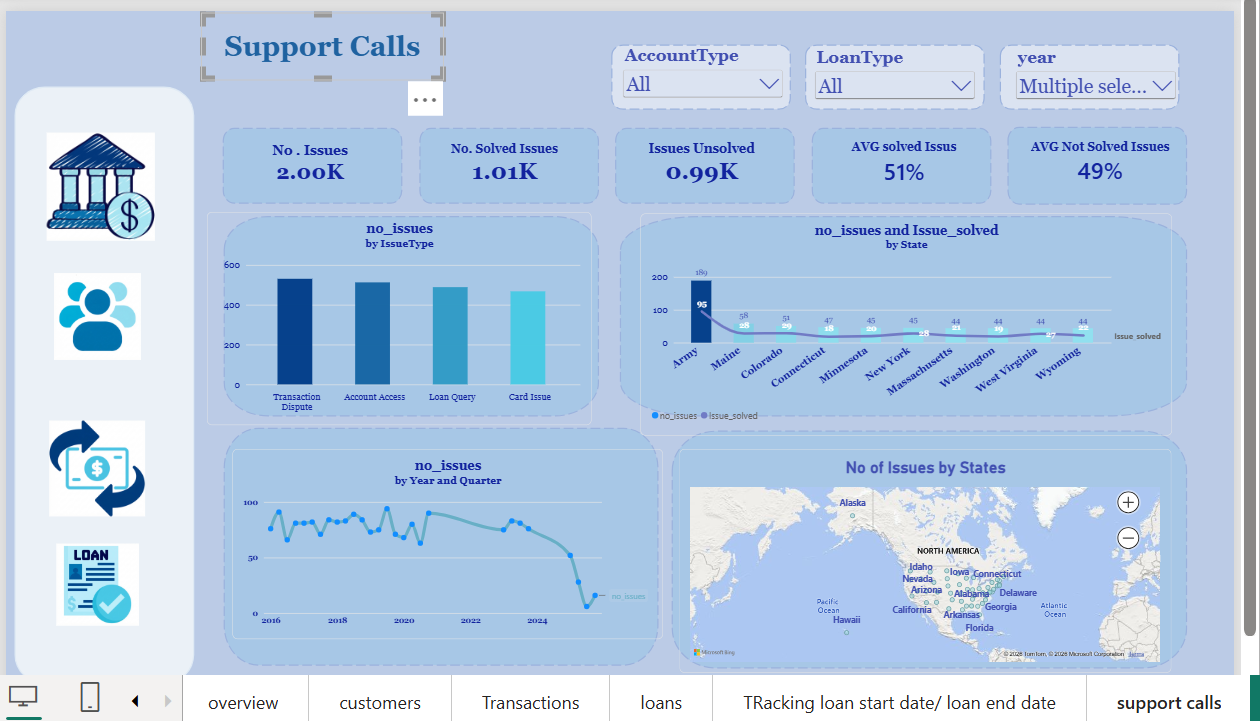

The dashboard page shown, as its layout file describes it:
{"tool":"powerbi","page":{"name":"support calls","canvas":[1920,1080],"ordinal":5},"visuals":[{"type":"textbox","box":[100,100,300,300],"z":0},{"type":"textbox","box":[100.2,145.5,207.6,255.3],"z":1000},{"type":"cardVisual","fields":{"Data":["customer_service.no_issues"]},"box":[355.5,190.9,238.6,97.8],"z":2000},{"type":"cardVisual","fields":{"Data":["customer_service.Issue_solved"]},"box":[644.2,190.9,269.6,97.8],"z":3000},{"type":"cardVisual","fields":{"Data":["customer_service.Issue_not_solved"]},"box":[968.7,190.9,238.6,97.8],"z":4000},{"type":"cardVisual","fields":{"Data":["customer_service.AVG_solved_issues"]},"box":[1286,190.9,238.6,97.8],"z":5000},{"type":"cardVisual","fields":{"Data":["customer_service.AVG_Notsolved_issues"]},"box":[1582.8,191.2,256.5,96.8],"z":6000},{"type":"lineClusteredColumnComboChart","fields":{"Category":["SupportCalls.IssueType"],"Y":["customer_service.no_issues"]},"box":[313.9,313.9,601.4,333],"z":7000},{"type":"lineClusteredColumnComboChart","fields":{"Category":["customers.State"],"Y":["customer_service.no_issues"],"Y2":["customer_service.Issue_solved"]},"box":[992,316.3,831.4,347.4],"z":8000},{"type":"lineChart","fields":{"Category":["calender.Date.Variation.Date Hierarchy.Year","calender.Date.Variation.Date Hierarchy.Quarter","calender.Date.Variation.Date Hierarchy.Month","calender.Date.Variation.Date Hierarchy.Day"],"Y":["customer_service.no_issues"]},"box":[354.6,685.3,673.3,297.1],"z":9000},{"type":"map","title":"No of Issues by States","fields":{"Category":["customers.State"]},"box":[1054.2,685.3,769.1,349.8],"z":9001},{"type":"slicer","fields":{"Values":["calender.year"]},"box":[1574.7,55.7,260.1,85.9],"z":9002},{"type":"slicer","fields":{"Values":["Loans.LoanType"]},"box":[1259.8,55.7,260.1,95.4],"z":9003},{"type":"slicer","fields":{"Values":["Accounts.AccountType"]},"box":[959.1,54.9,260.1,95.4],"z":9004},{"type":"image","box":[38.2,190.9,221.9,169.4],"z":9005},{"type":"image","box":[38.2,639.4,210,150],"z":9006},{"type":"image","box":[74,391.3,136,171.8],"z":9007},{"type":"image","box":[57.5,833.8,169.4,128.8],"z":9008}]}

Visuals, with their boxes on the page's 1920x1080 design canvas (x1, y1, x2, y2). These are canvas units, not pixel positions in the 1260x721 screenshot, which may show the page scaled, cropped or inside an application window:
textbox: box(100, 100, 400, 400)
textbox: box(100, 146, 308, 401)
cardVisual - customer_service.no_issues: box(356, 191, 594, 289)
cardVisual - customer_service.Issue_solved: box(644, 191, 914, 289)
cardVisual - customer_service.Issue_not_solved: box(969, 191, 1207, 289)
cardVisual - customer_service.AVG_solved_issues: box(1286, 191, 1525, 289)
cardVisual - customer_service.AVG_Notsolved_issues: box(1583, 191, 1839, 288)
lineClusteredColumnComboChart - SupportCalls.IssueType x customer_service.no_issues: box(314, 314, 915, 647)
lineClusteredColumnComboChart - customers.State x customer_service.no_issues: box(992, 316, 1823, 664)
lineChart - calender.Date.Variation.Date Hierarchy.Year x calender.Date.Variation.Date Hierarchy.Quarter: box(355, 685, 1028, 982)
"No of Issues by States" map: box(1054, 685, 1823, 1035)
slicer - calender.year: box(1575, 56, 1835, 142)
slicer - Loans.LoanType: box(1260, 56, 1520, 151)
slicer - Accounts.AccountType: box(959, 55, 1219, 150)
image: box(38, 191, 260, 360)
image: box(38, 639, 248, 789)
image: box(74, 391, 210, 563)
image: box(58, 834, 227, 963)
